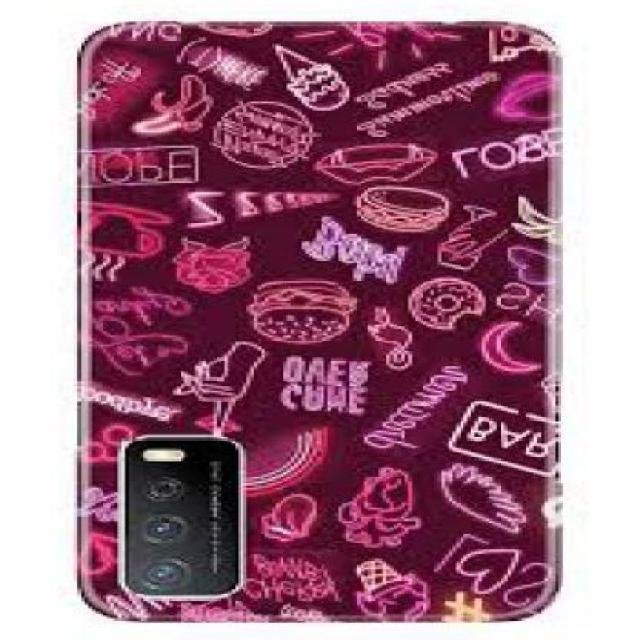phone: (81, 23, 563, 623)
